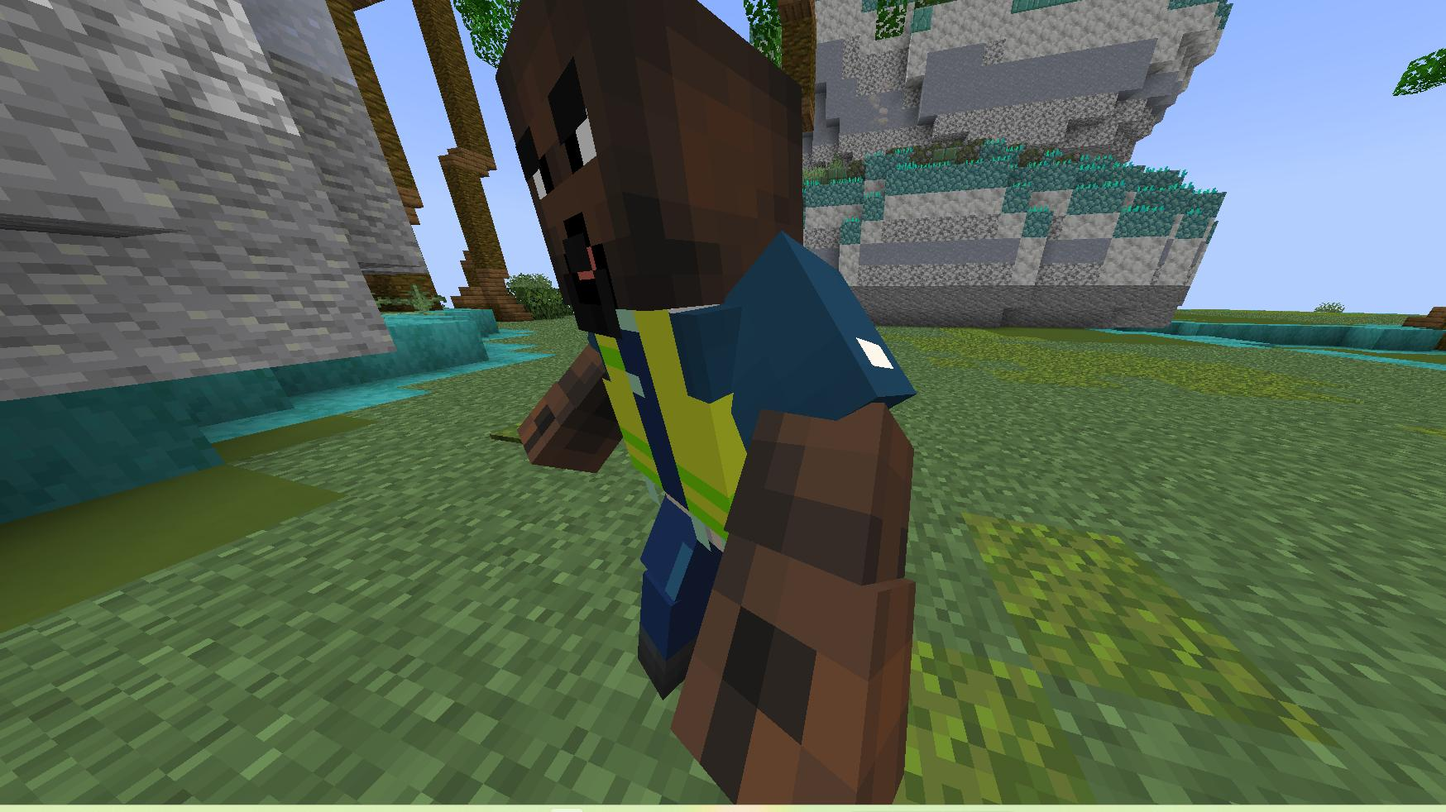Guardian: (498, 0, 915, 791)
